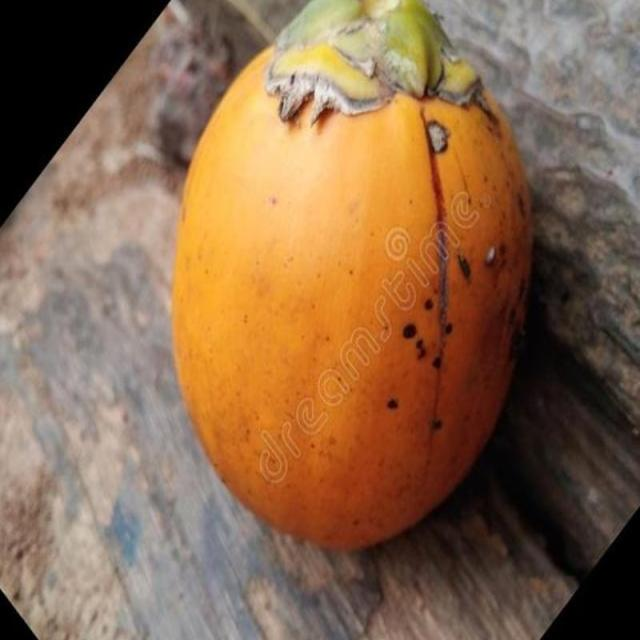good: (170, 0, 534, 556)
